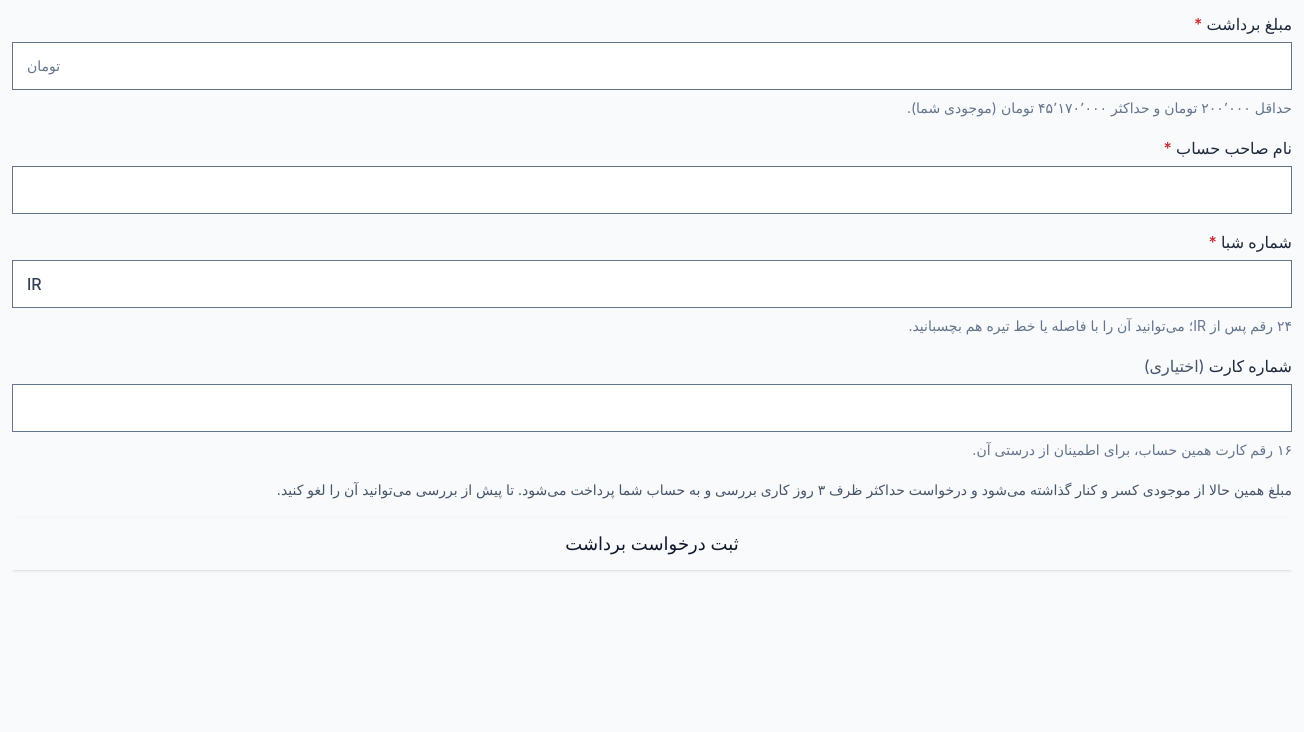
it: the API’s answers › a frozen wallet (403), a lost answer: said for the whole form
Type "300000" into the field labelled "مبلغ برداشت *" at (676, 66), box top-left (60, 43), bottom-right (1291, 89)
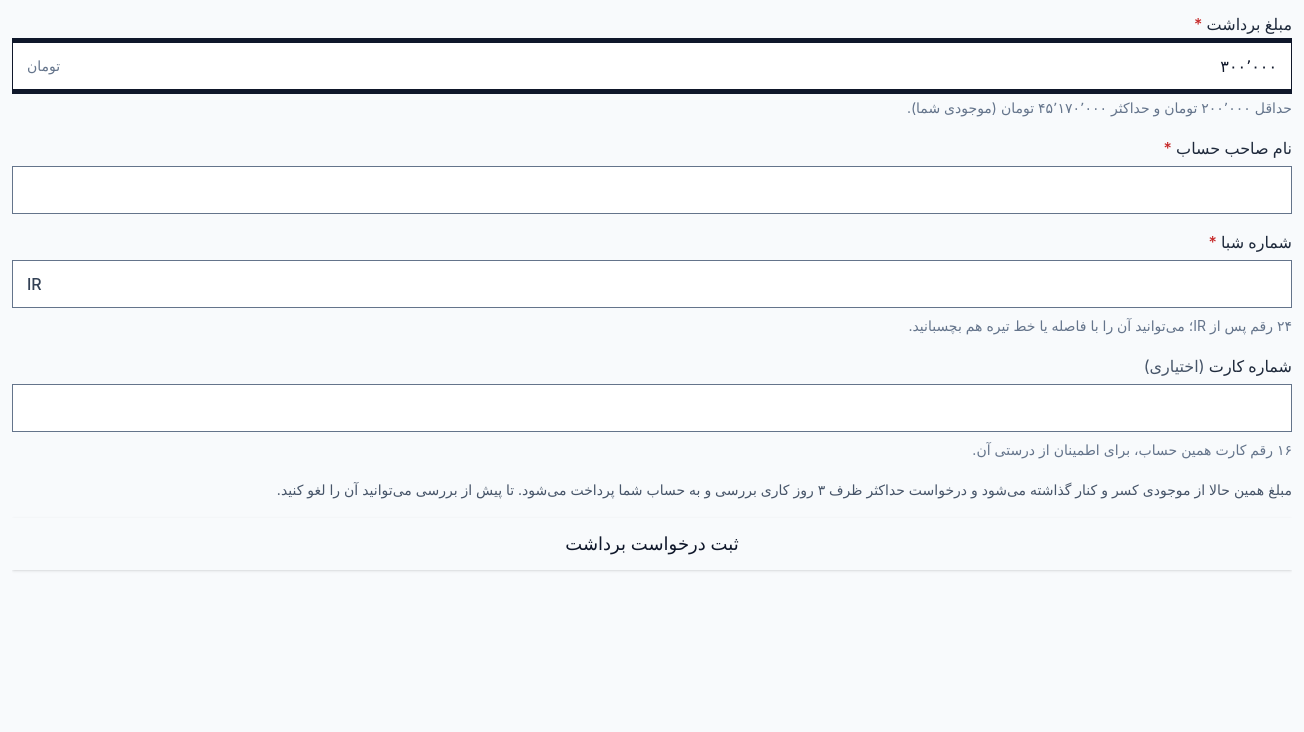
Type "شیرین تهرانی" into the field labelled "نام صاحب حساب *" at (652, 190), box top-left (13, 167), bottom-right (1291, 213)
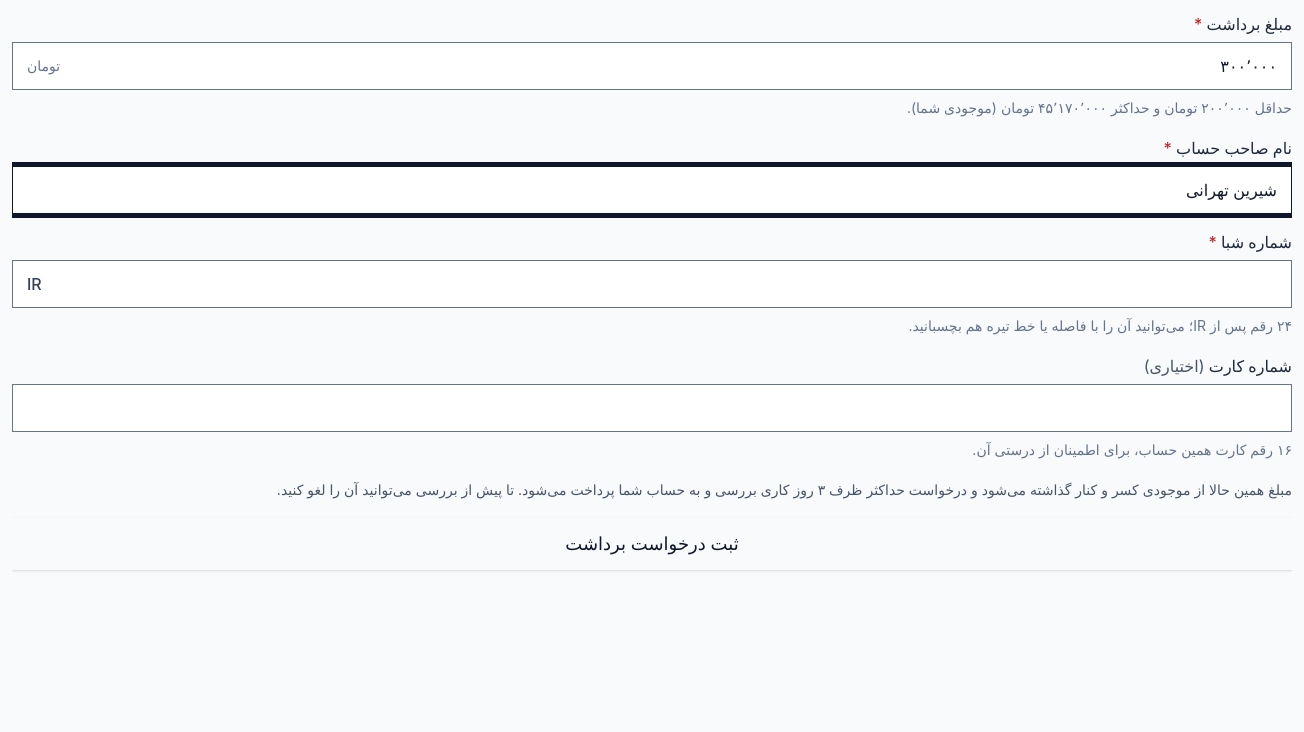
Click the field labelled "شماره شبا *" at (666, 284), box top-left (42, 261), bottom-right (1291, 307)
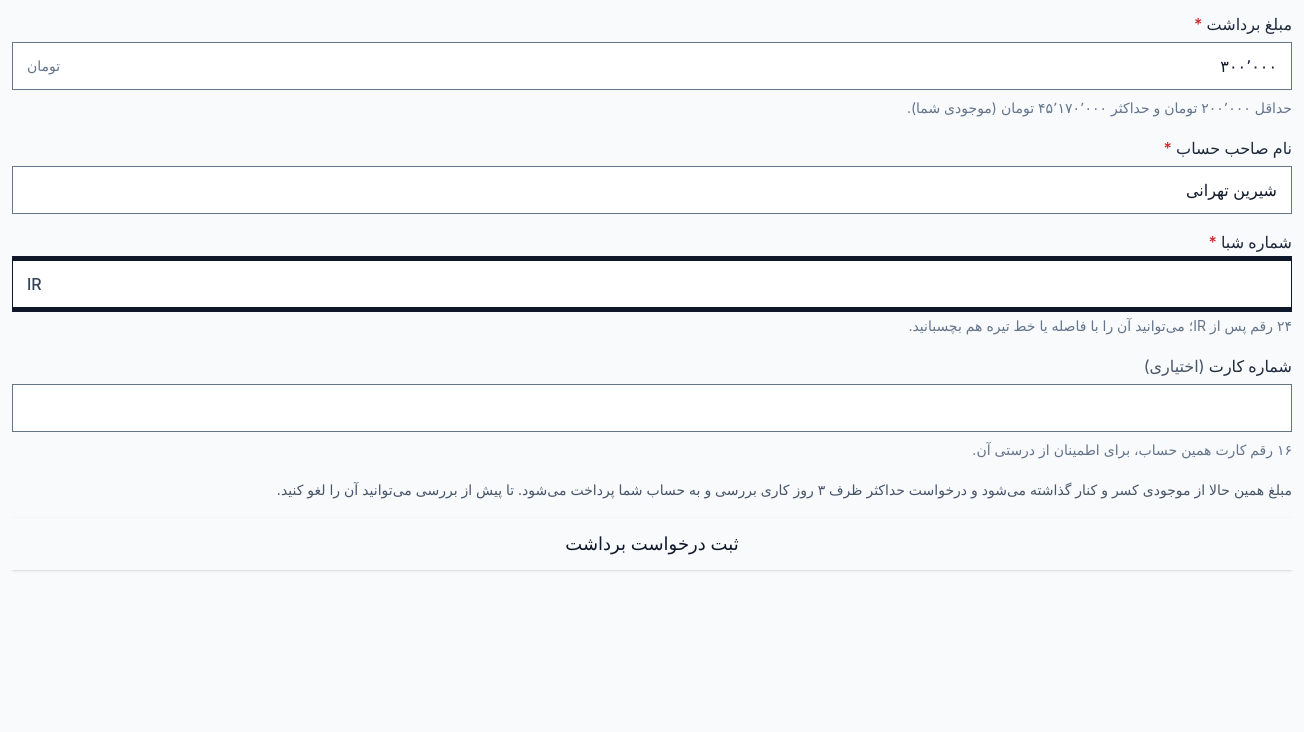
Type keys "IR062960000000100324200001"
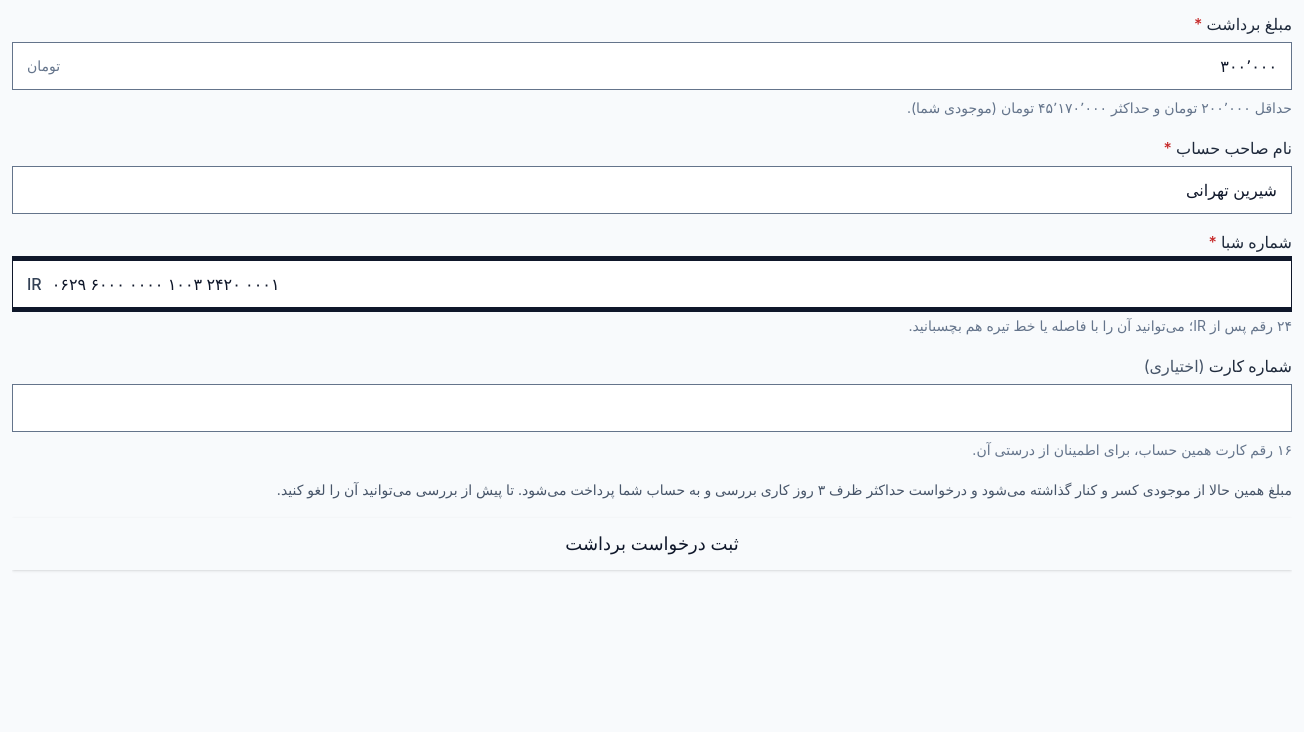
Click the button "ثبت درخواست برداشت" at (652, 544), box top-left (12, 518), bottom-right (1292, 570)
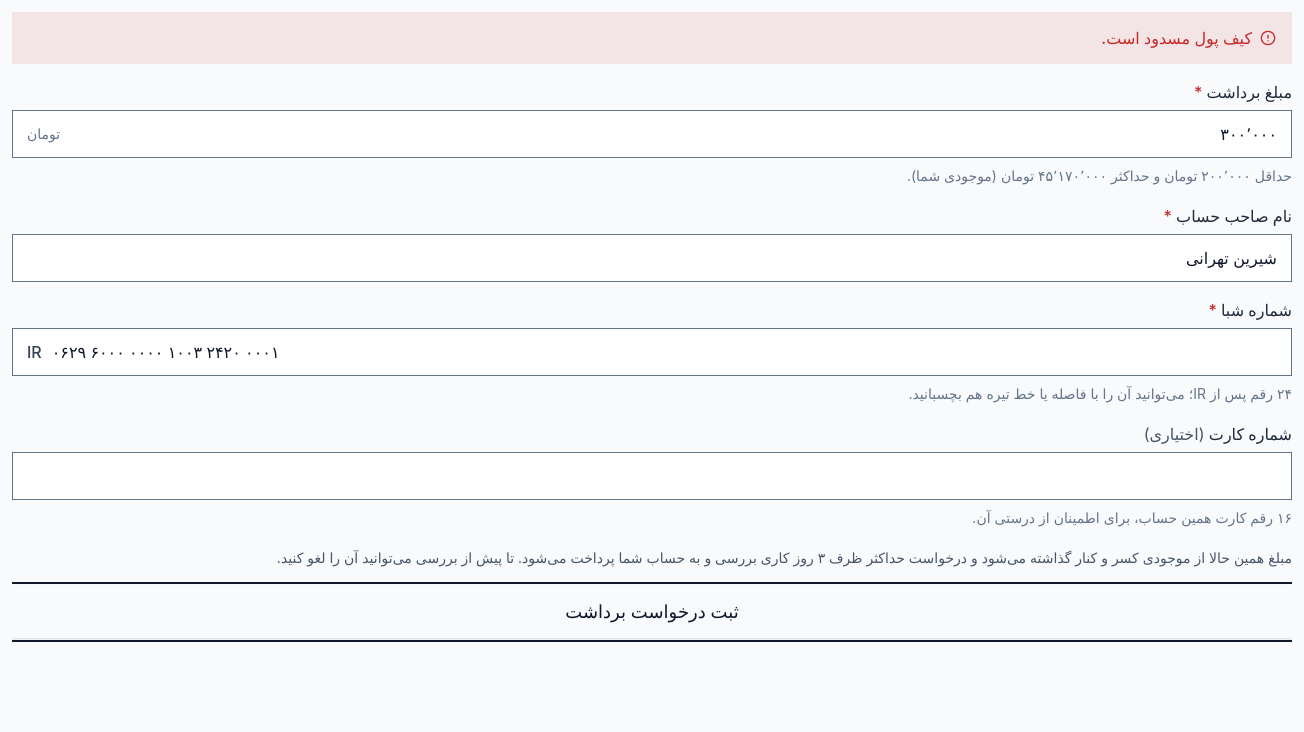
Expected: the message reads "کیف پول مسدود است.", top-left (1101, 28), bottom-right (1252, 48)
